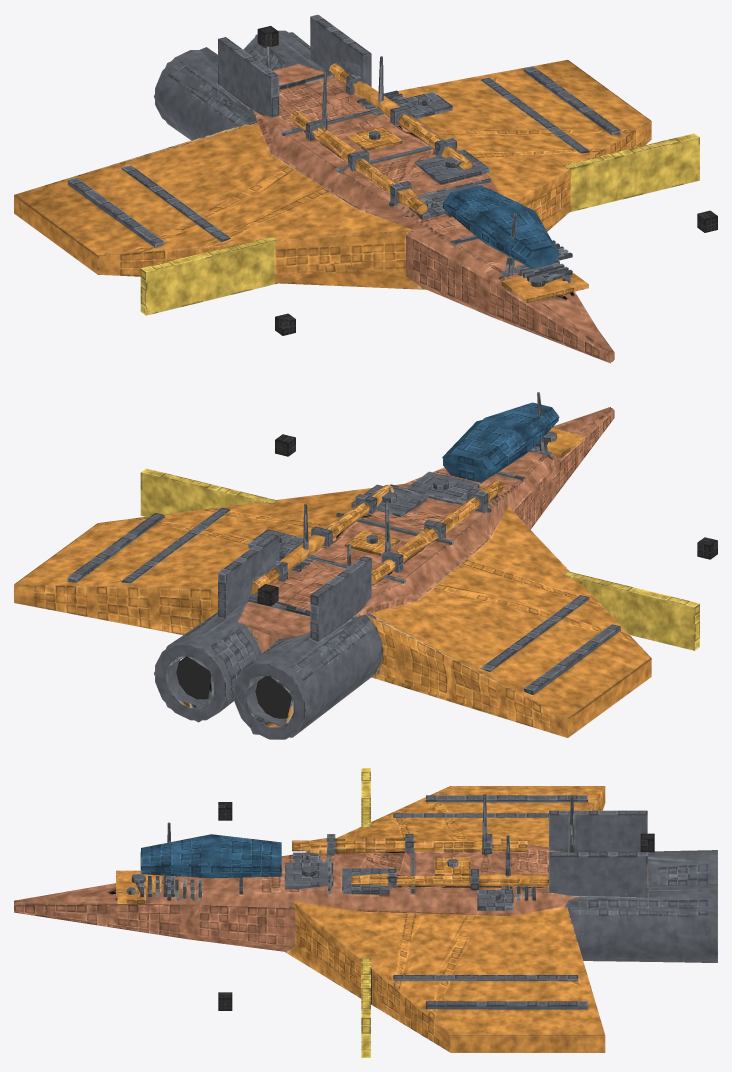
The model's file is sd_npc_raider.glb.
3 renders of one model, top to bottom at view 1: azimuth 30°, elevation 25°; view 2: azimuth 150°, elevation 25°; view 3: azimuth 270°, elevation 25°, orthographic. The views are drawn at different scales.
Visible parts, largest first — view 1: LOD0_body, LOD1_body; view 2: LOD0_body, LOD1_body; view 3: LOD0_body, LOD1_body.
Boxes of the visible parts, x1,y1,x2,y2 form: LOD0_body: (14,14,717,362); LOD1_body: (14,32,650,363); LOD0_body: (15,392,717,739); LOD1_body: (14,407,651,737); LOD0_body: (14,768,717,1057); LOD1_body: (14,786,717,1052).
Size of the model in its own units: 0.84 by 0.2091 by 1.
1 material, 1 textured.
